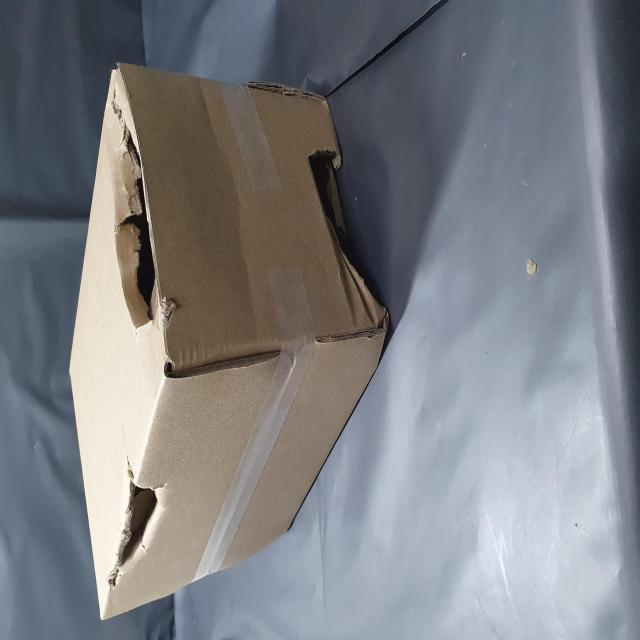damaged: (169, 196, 313, 286), (164, 546, 279, 640), (30, 193, 101, 288)
